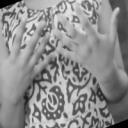hand: (52, 1, 122, 81), (0, 10, 56, 96)
